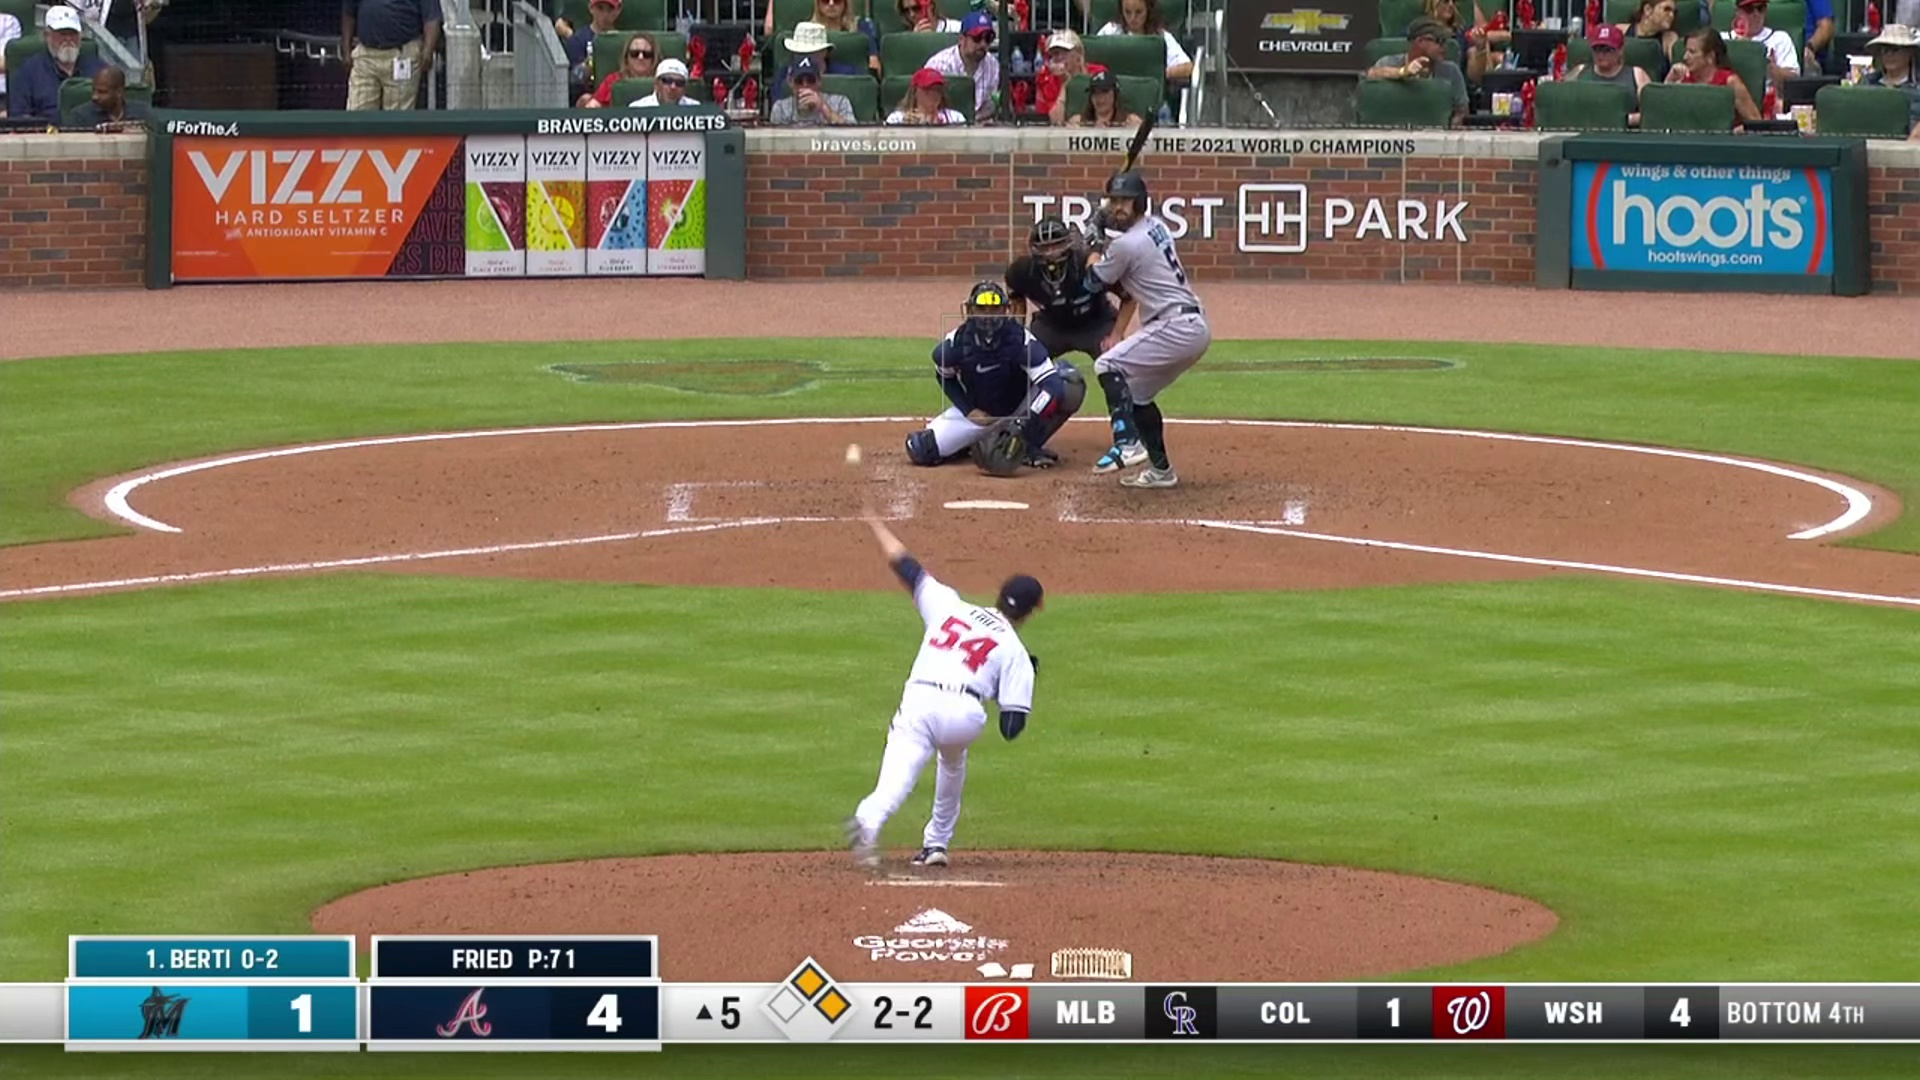baseball: (844, 443, 860, 463)
